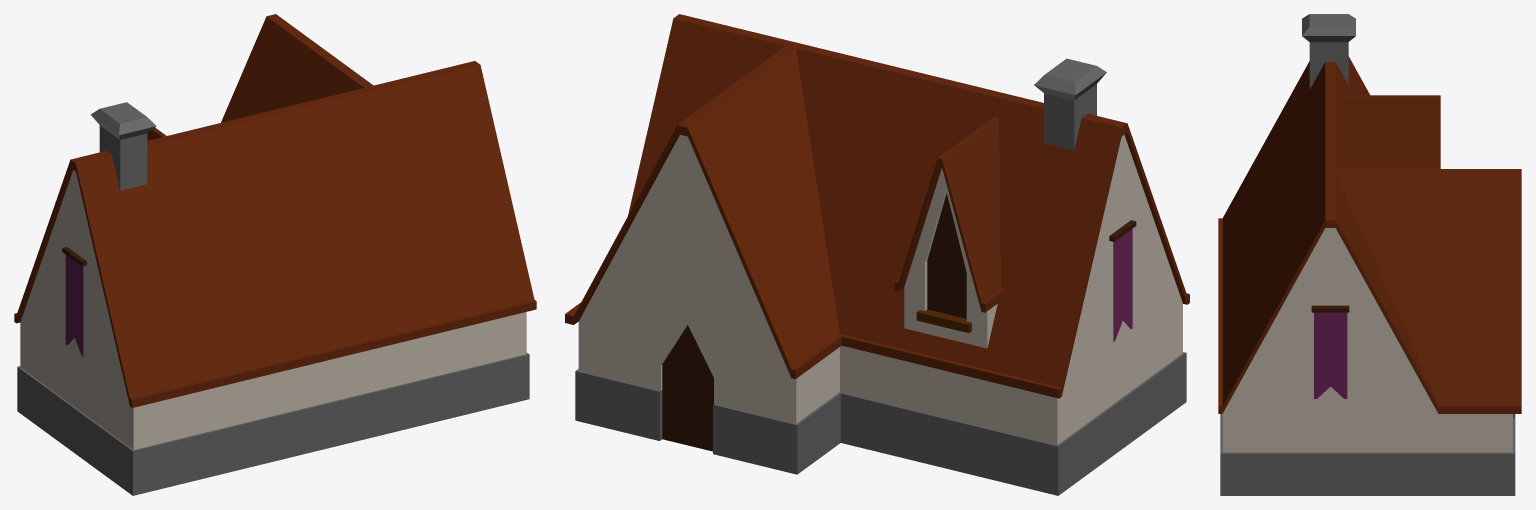
Rendered from Dwellingv8.fbx.
3 renders of one model, left to right at view 1: azimuth 30°, elevation 25°; view 2: azimuth 150°, elevation 25°; view 3: azimuth 270°, elevation 25°, orthographic. The views are drawn at different scales.
Visible parts, largest first — view 1: Plane.036; view 2: Plane.036; view 3: Plane.036.
Boxes of the visible parts, x1,y1,x2,y2 form: Plane.036: (14, 14, 536, 495); Plane.036: (565, 14, 1189, 495); Plane.036: (1218, 14, 1521, 495).
Size of the model in its own units: 206 by 160 by 141.
